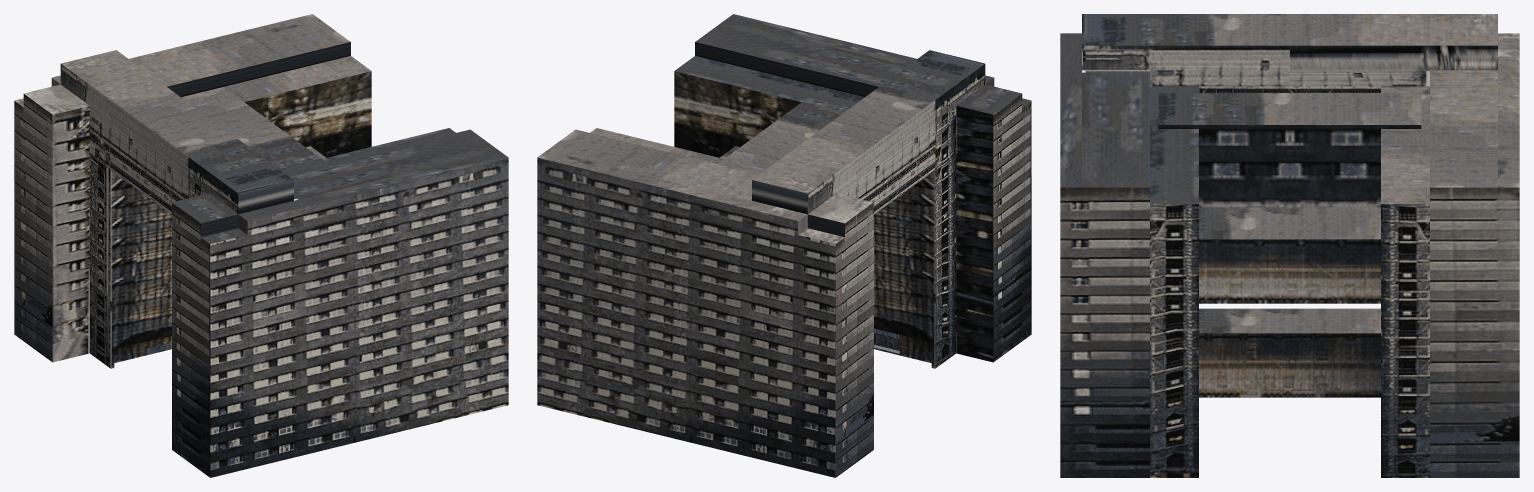
The model's file is building versie2.fbx.
The picture shows the model from 3 angles, left to right: view 1: azimuth 30°, elevation 25°; view 2: azimuth 150°, elevation 25°; view 3: azimuth 270°, elevation 25°; orthographic projection. The views are drawn at different scales.
Visible parts, largest first — view 1: Cube.501; view 2: Cube.501; view 3: Cube.501.
Boxes of the visible parts, box(x1,y1,x2,y2) form: Cube.501: box(14, 14, 508, 477); Cube.501: box(537, 14, 1031, 477); Cube.501: box(1060, 14, 1519, 477).
Bounding box in the file's own units: 4150 × 3572 × 4725.
